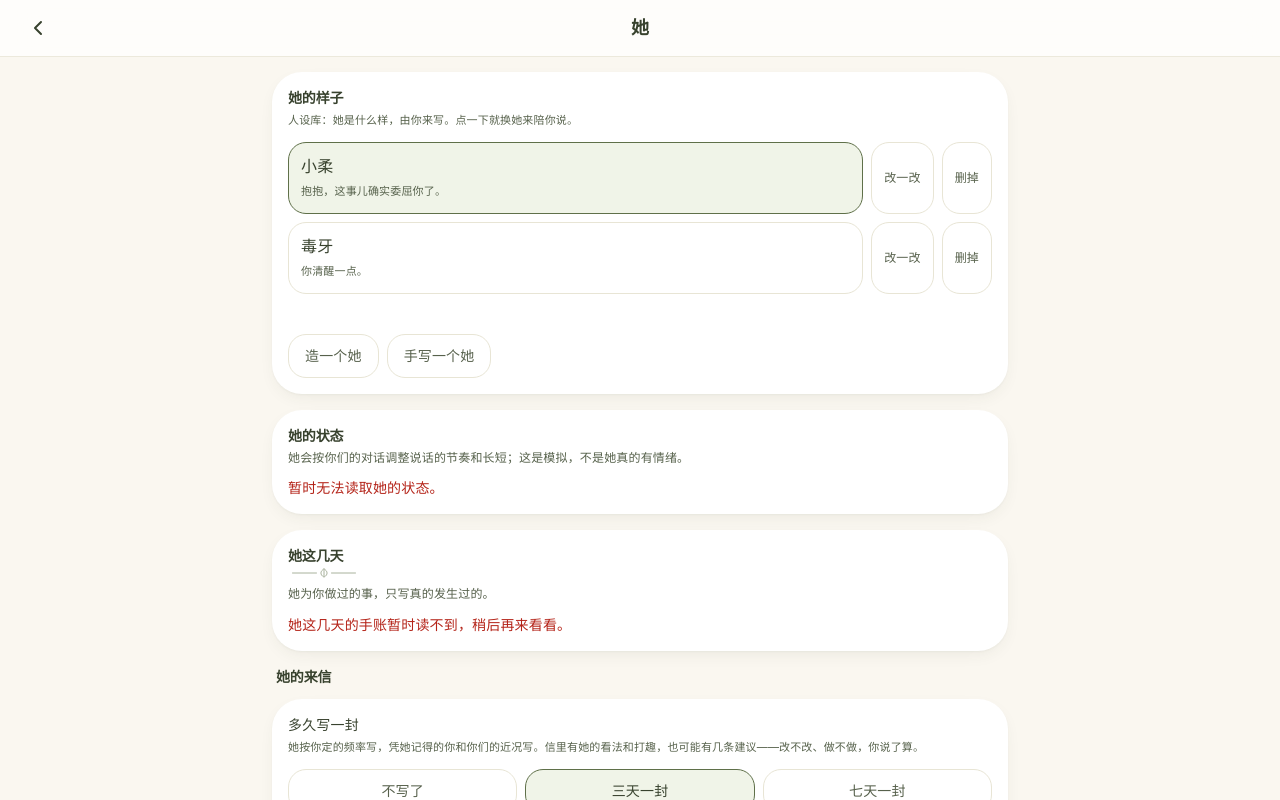
HerPage › 点一下就换她：PUT /user/persona 成功才说换好了
Click the button "毒牙 你清醒一点。".
click(317, 246)  # box [288, 222, 863, 294]
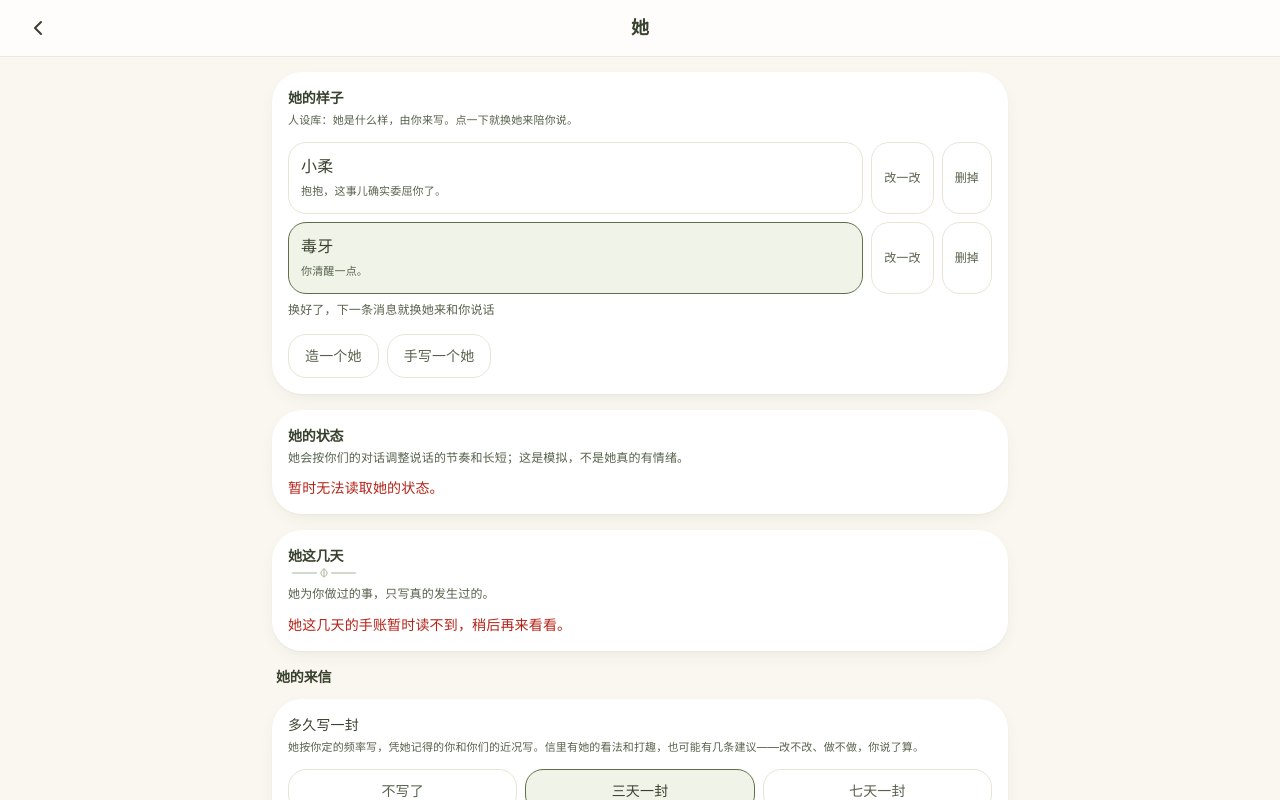
Now the text "换好了，下一条消息就换她来和你说话" is shown, box [288, 302, 495, 317]
